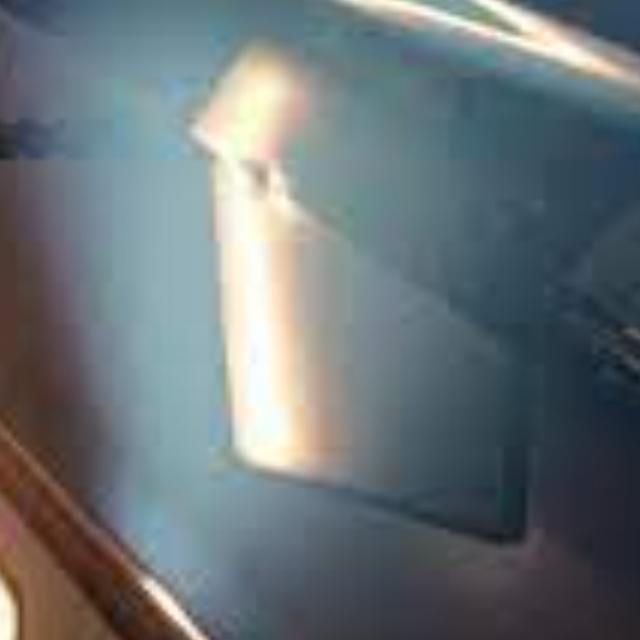dents: (214, 146, 338, 250)
